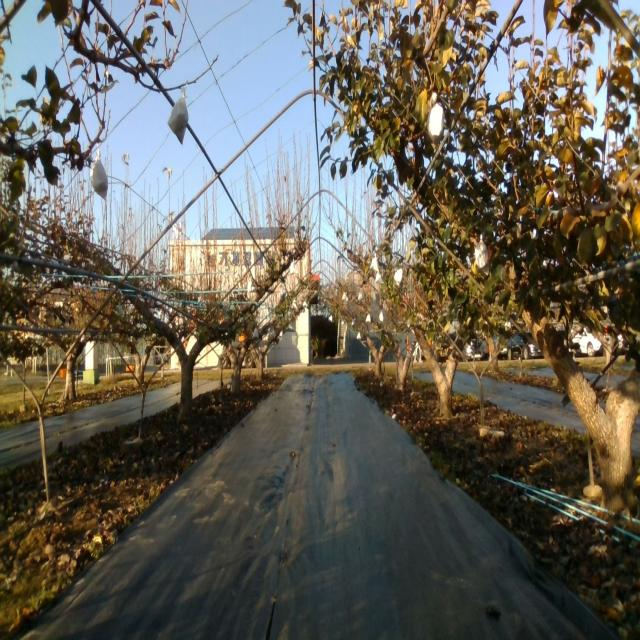pearbags: (168, 85, 188, 145), (88, 147, 108, 199), (428, 105, 446, 144), (474, 239, 488, 276)
